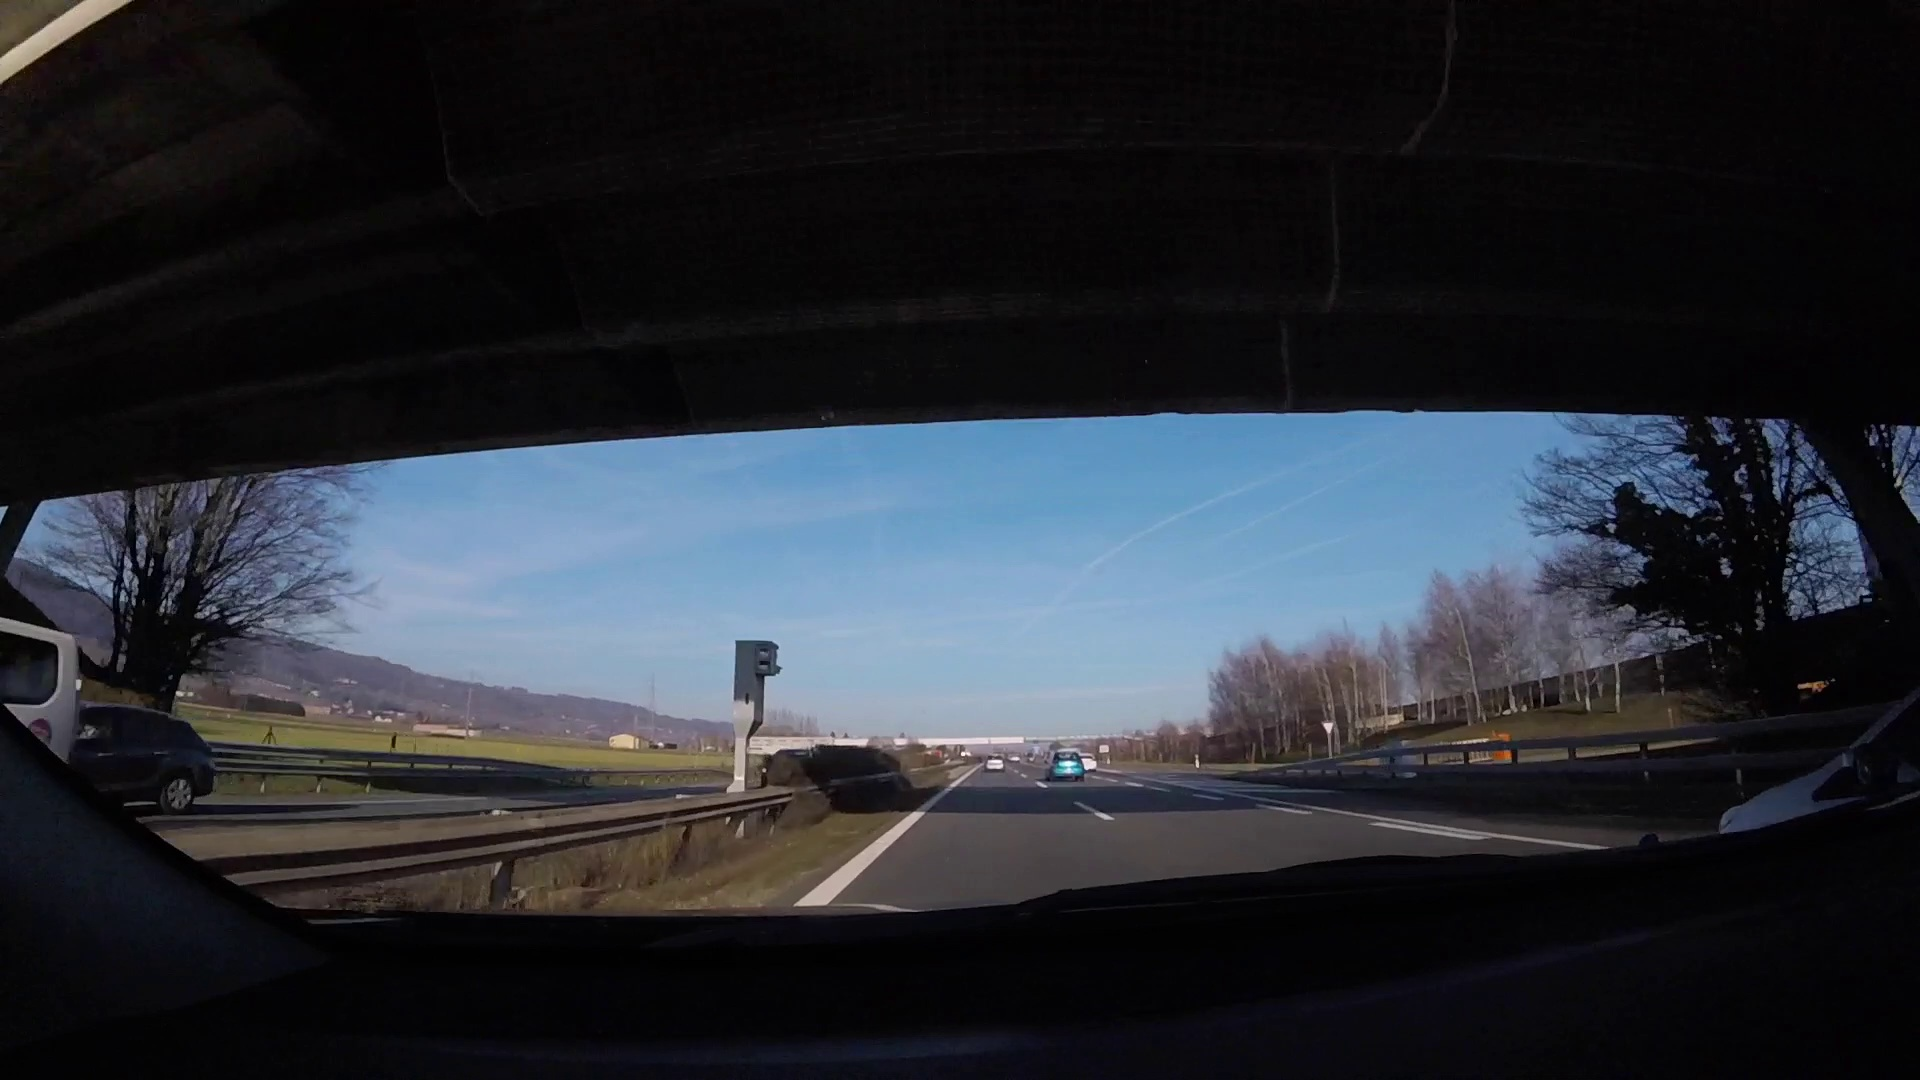radar: (732, 637, 783, 785)
